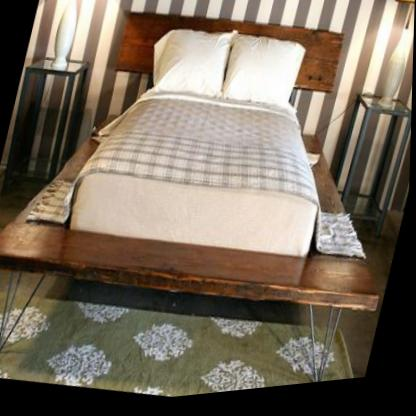Bed: (0, 14, 380, 319)
Carpet: (0, 274, 358, 401)
Table: (0, 47, 93, 204), (323, 93, 413, 254)
